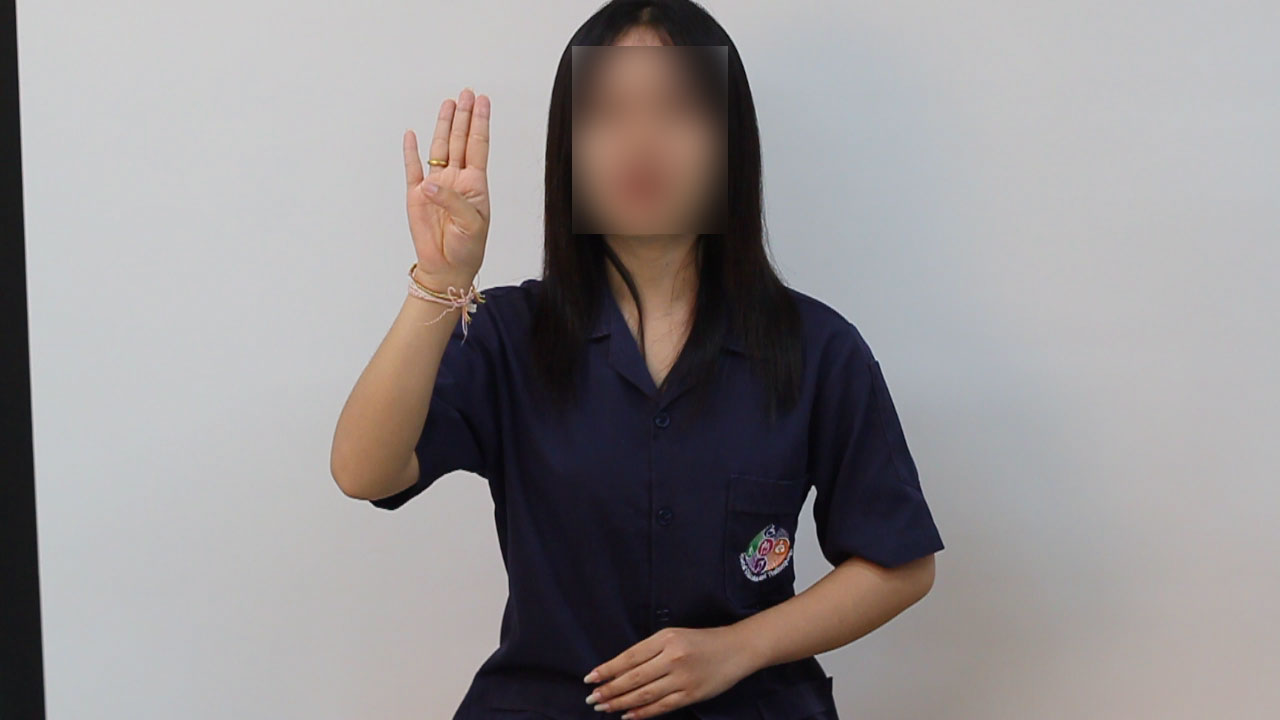bor: (388, 72, 507, 317)
